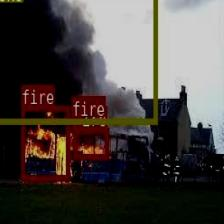fire: (20, 104, 70, 180), (72, 127, 108, 159), (71, 116, 80, 126)
smoke: (0, 0, 157, 122)
